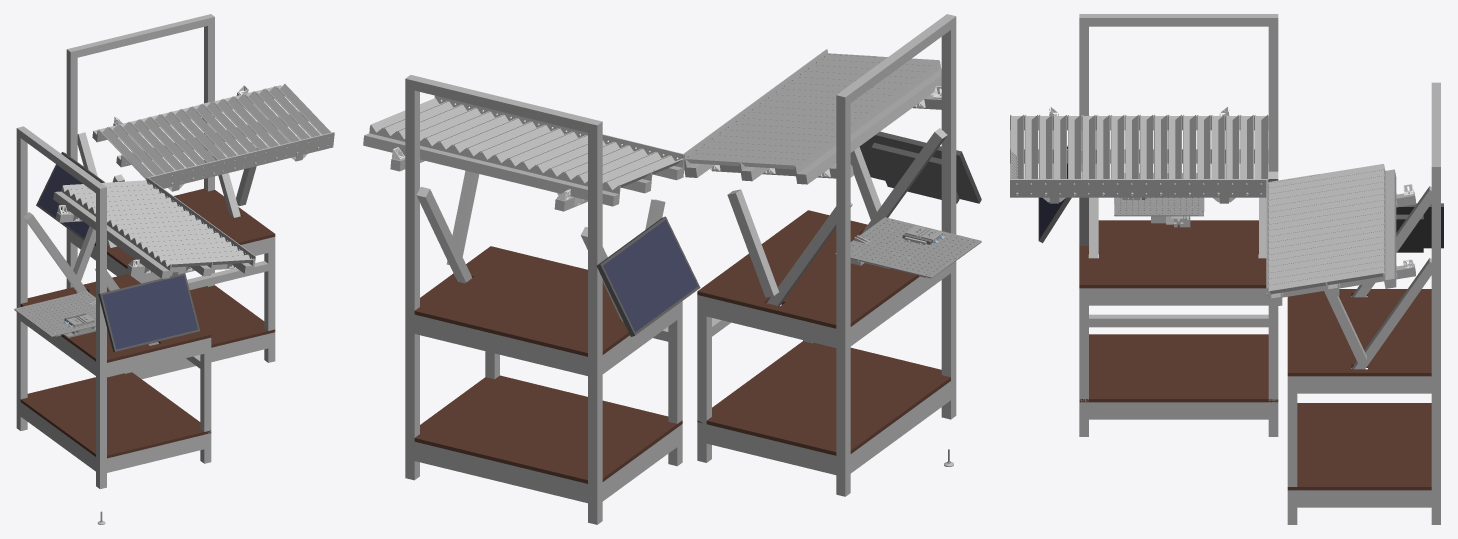
File: Liebesschloss24_SetupV3.glb
3 renders of one model, left to right at view 1: azimuth 30°, elevation 25°; view 2: azimuth 150°, elevation 25°; view 3: azimuth 270°, elevation 25°, orthographic. The views are drawn at different scales.
Visible parts, largest first — view 1: Volumenkörper1 (×9), TischplattenLinks (×2), Item40x40x1650_2x (×2), Bildschirm (×2), Item40x80x1405_4x (×2), Item40x40x860_2x (×2), Item40x40x750 (×2), Item40x40x640_2x (×2), Grundplatte, Item40x80x750_2x, Item40x80x750_2x_2, Item40x40x420_2x (×2) (+1 smaller); view 2: TischplattenLinks (×2), Volumenkörper1 (×9), Item40x40x1650_2x (×2), Bildschirm (×2), Item40x80x750_2x (×2), Item40x80x1405_4x (×2), Item40x40x640_2x (×2), Item40x40x750 (×2), Item40x40x860_2x (×2), Grundplatte, Item40x40x420_2x (×2); view 3: TischplattenLinks (×2), Volumenkörper1 (×6), Item40x40x1650_2x (×2), Item40x80x750_2x_2, Item40x80x1405_4x, Item40x40x860_2x (×2), Item40x40x640_2x (×2), Item40x40x750 (×2), Volumenkörper37, Bildschirm (×2), Grundplatte, Item40x40x420_2x (×2).
Part boxes in pixels (x1,y1,x2,y2): Volumenkörper1 (×9): (53, 84, 334, 278); TischplattenLinks (×2): (20, 188, 275, 458); Item40x40x1650_2x (×2): (16, 14, 214, 489); Bildschirm (×2): (36, 152, 199, 352); Item40x80x1405_4x (×2): (70, 231, 204, 472); Item40x40x860_2x (×2): (125, 237, 275, 463); Item40x40x750 (×2): (20, 16, 207, 192); Item40x40x640_2x (×2): (23, 102, 240, 345); Grundplatte: (14, 291, 95, 336); Item40x80x750_2x: (20, 315, 95, 471); Item40x80x750_2x_2: (138, 238, 268, 378); Item40x40x420_2x (×2): (73, 143, 258, 280); TischplattenLinks (×2): (414, 210, 950, 483); Volumenkörper1 (×9): (363, 49, 941, 206); Item40x40x1650_2x (×2): (405, 14, 956, 524); Bildschirm (×2): (596, 131, 981, 336); Item40x80x750_2x (×2): (414, 265, 950, 503); Item40x80x1405_4x (×2): (602, 297, 836, 501); Item40x40x640_2x (×2): (416, 128, 947, 321); Item40x40x750 (×2): (414, 18, 950, 132); Item40x40x860_2x (×2): (485, 295, 812, 466); Grundplatte: (835, 217, 981, 278); Item40x40x420_2x (×2): (446, 147, 881, 297); TischplattenLinks (×2): (1079, 220, 1431, 490); Volumenkörper1 (×6): (1010, 115, 1415, 306); Item40x40x1650_2x (×2): (1079, 14, 1440, 524); Item40x80x750_2x_2: (1089, 288, 1268, 419); Item40x80x1405_4x: (1297, 296, 1431, 507); Item40x40x860_2x (×2): (1079, 288, 1297, 524); Item40x40x640_2x (×2): (1089, 130, 1431, 369); Item40x40x750 (×2): (1089, 14, 1440, 162); Volumenkörper37: (1089, 314, 1268, 327); Bildschirm (×2): (1038, 146, 1443, 252); Grundplatte: (1114, 173, 1204, 216); Item40x40x420_2x (×2): (1079, 171, 1366, 363).
Size of the model in its own units: 2 by 1.85 by 1.81.
Materials: 17 (1 with a texture image).
